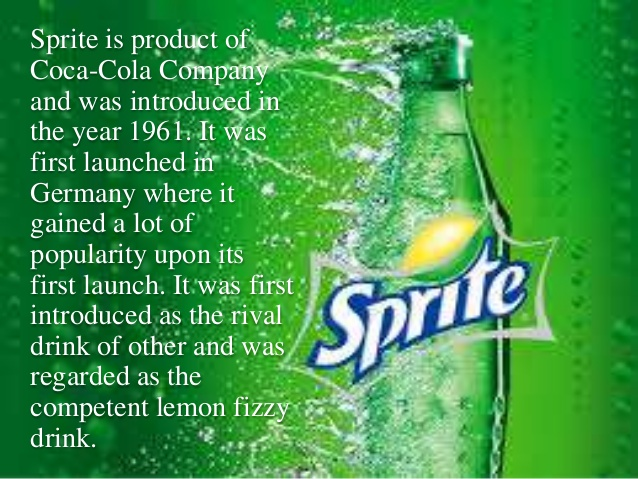sprite: (313, 238, 525, 373)
